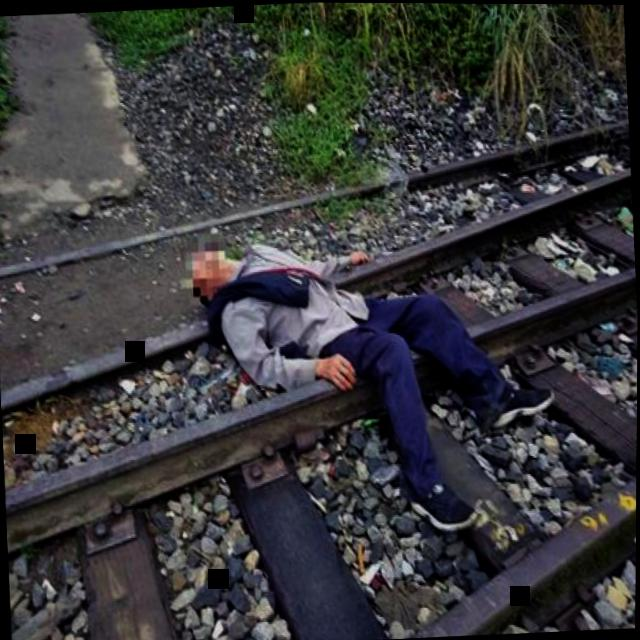Fall-Detected: (168, 192, 555, 536)
